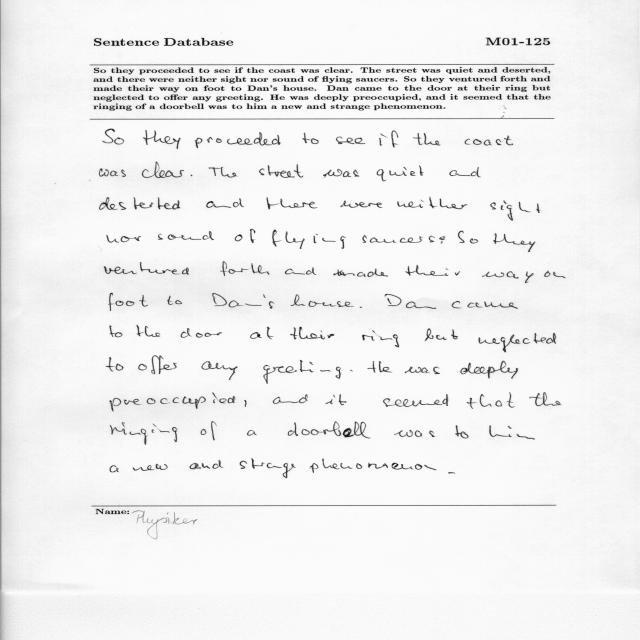word: (110, 393, 235, 412), (310, 458, 437, 473), (263, 360, 341, 384), (111, 422, 178, 445), (478, 333, 556, 352), (288, 422, 371, 439), (272, 230, 346, 249), (195, 132, 281, 148), (104, 262, 189, 275), (239, 459, 296, 478), (99, 197, 180, 210), (460, 361, 518, 379), (490, 201, 541, 221), (212, 293, 274, 309), (383, 394, 448, 407), (398, 197, 468, 209), (290, 294, 354, 307), (493, 233, 536, 252), (467, 392, 515, 409), (385, 294, 436, 309), (377, 166, 424, 182), (220, 261, 270, 276), (138, 356, 177, 375), (143, 130, 181, 149), (109, 293, 148, 311), (489, 425, 535, 440), (202, 361, 238, 380), (142, 162, 184, 178), (362, 331, 399, 348), (482, 271, 534, 283), (259, 164, 303, 178), (267, 198, 318, 210), (405, 265, 460, 276), (362, 235, 435, 243), (291, 327, 335, 340), (451, 301, 518, 309), (158, 231, 214, 240), (334, 268, 389, 277), (465, 136, 514, 146), (425, 328, 458, 341), (529, 393, 562, 406), (181, 328, 223, 338), (413, 133, 441, 146), (273, 394, 308, 404), (323, 169, 359, 178), (379, 131, 398, 148), (449, 167, 481, 177), (103, 129, 124, 144), (190, 460, 224, 469), (340, 201, 383, 208), (368, 361, 393, 373), (235, 229, 256, 243), (209, 167, 238, 177), (137, 325, 161, 337), (394, 430, 435, 437), (201, 422, 216, 441), (250, 327, 273, 339), (107, 235, 141, 243), (106, 357, 124, 372), (458, 231, 478, 244), (285, 267, 317, 275), (404, 367, 440, 374), (133, 464, 168, 471), (99, 168, 126, 177), (325, 394, 347, 405), (336, 137, 365, 144), (302, 133, 319, 144), (455, 426, 469, 439), (544, 271, 566, 279), (206, 201, 231, 208), (110, 326, 123, 338), (167, 296, 182, 305), (233, 198, 244, 207), (110, 465, 119, 472), (247, 430, 257, 436), (439, 236, 445, 244), (244, 400, 247, 407), (448, 472, 455, 474), (191, 175, 193, 177), (350, 370, 353, 371), (360, 307, 362, 308)
